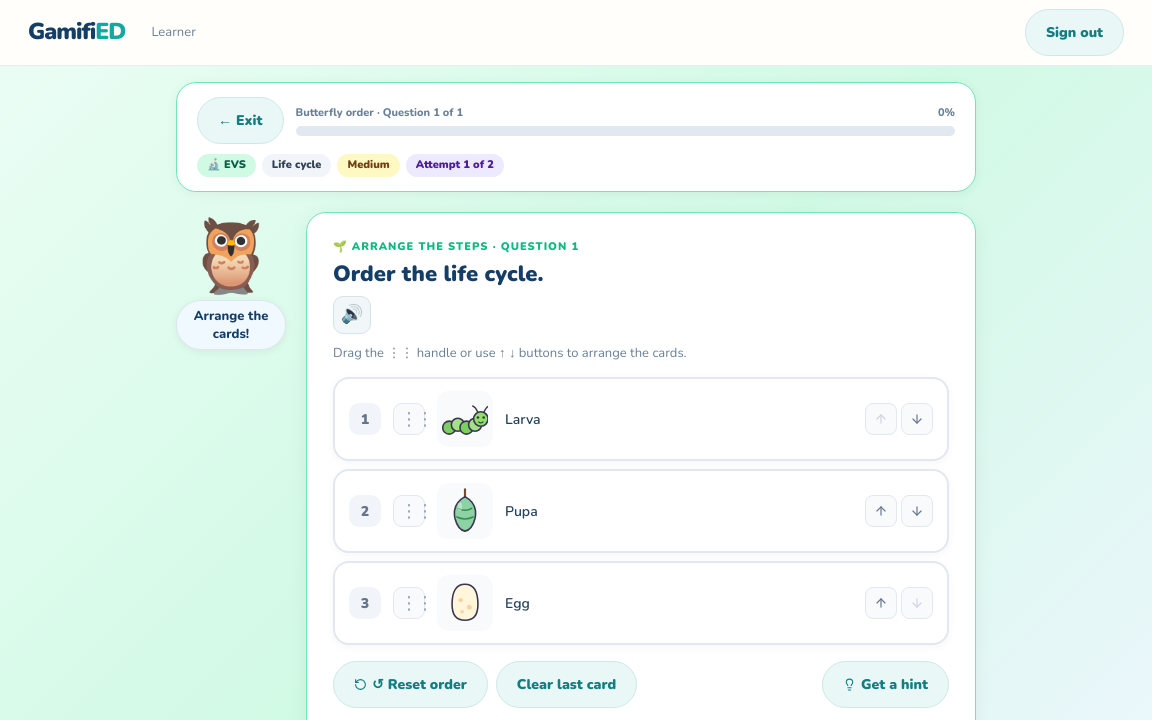
Scenario: a full student play: arrange, submit, feedback and results all come from the server
Expected: the heading "Order the life cycle." is shown, [333,259,543,289]
Step 1. Click the button named "Move Egg up" → x=881, y=603, box [865,587,897,619]
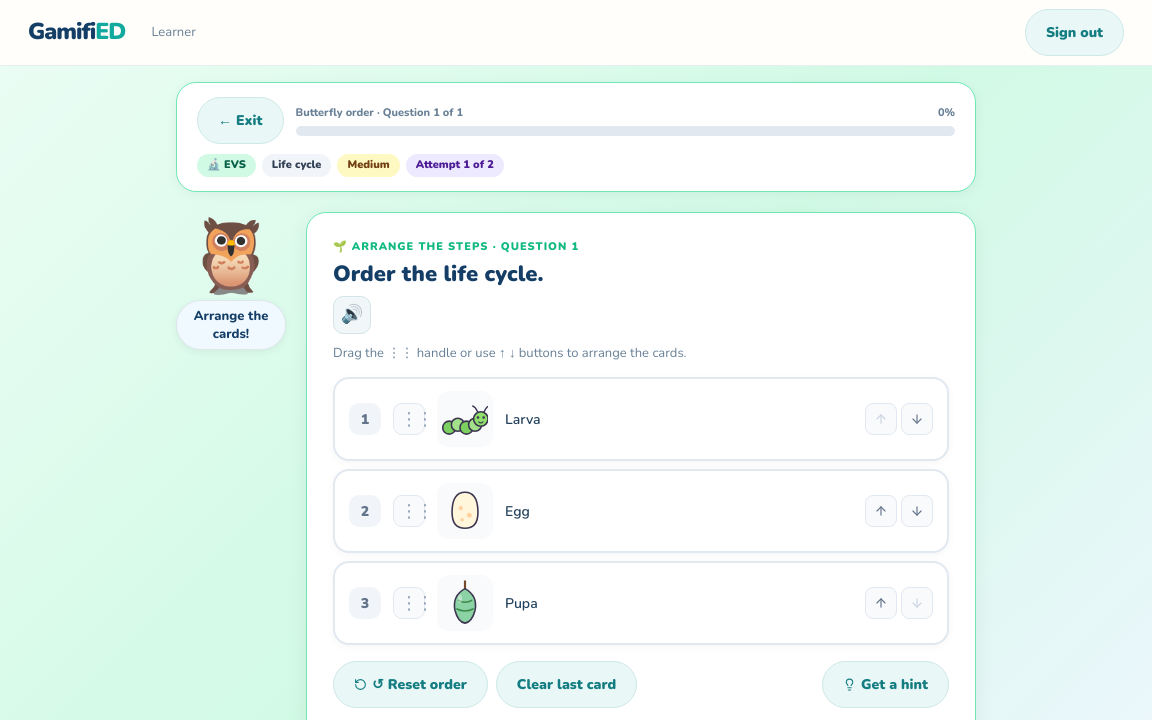
Step 2. Click the button named "Move Egg up" → x=881, y=511, box [865,495,897,527]
(page scrolled)
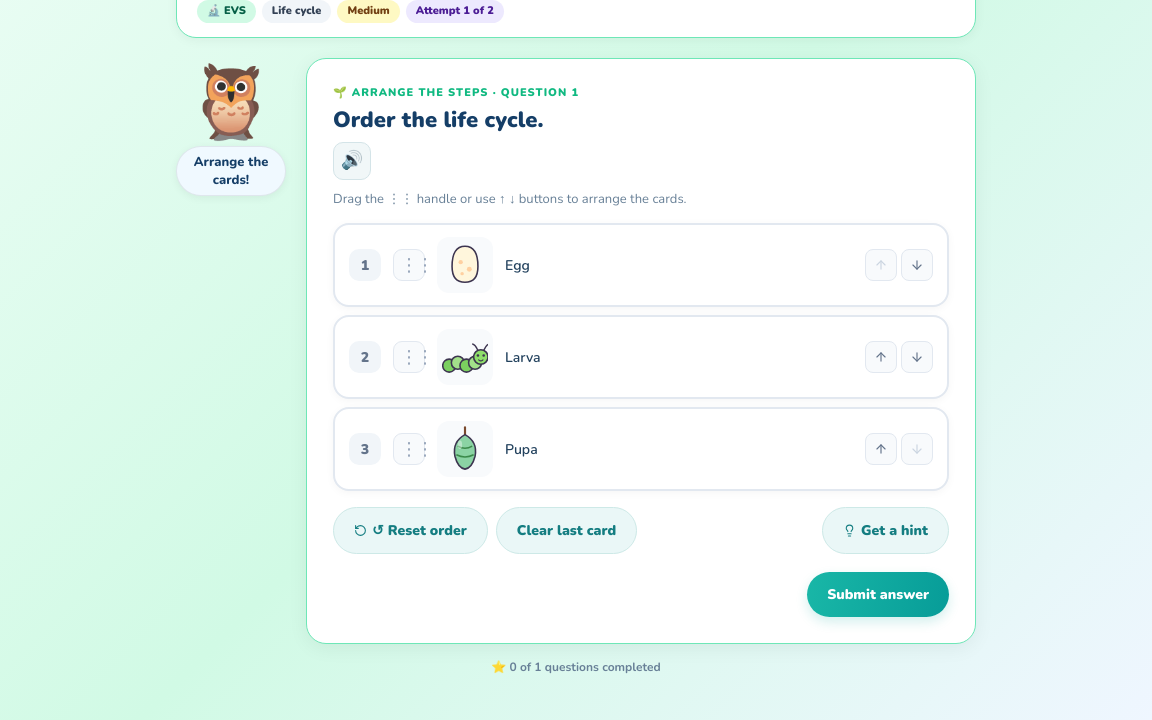
Step 3. Click the button "Submit answer" → x=878, y=595, box [807,572,949,617]
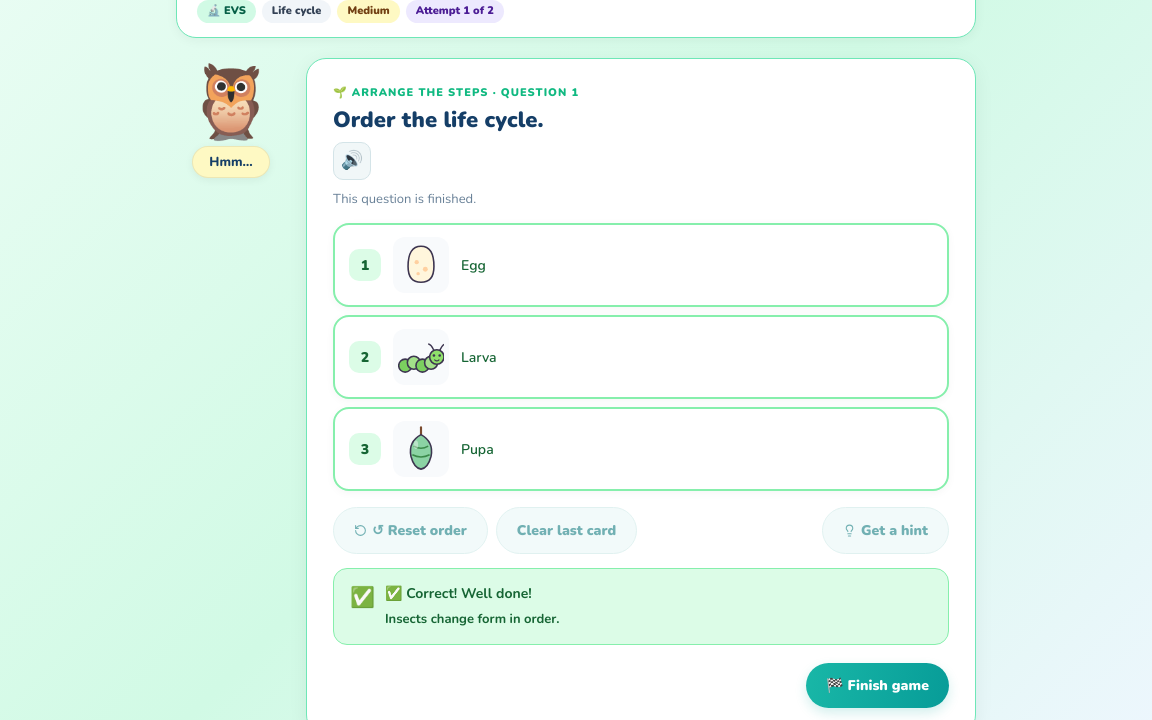
Expected: the text "Insects change form in order." is shown, [385,610,559,630]
Step 4. Click the button "🏁 Finish game" → x=877, y=685, box [806,663,949,708]
(page scrolled)
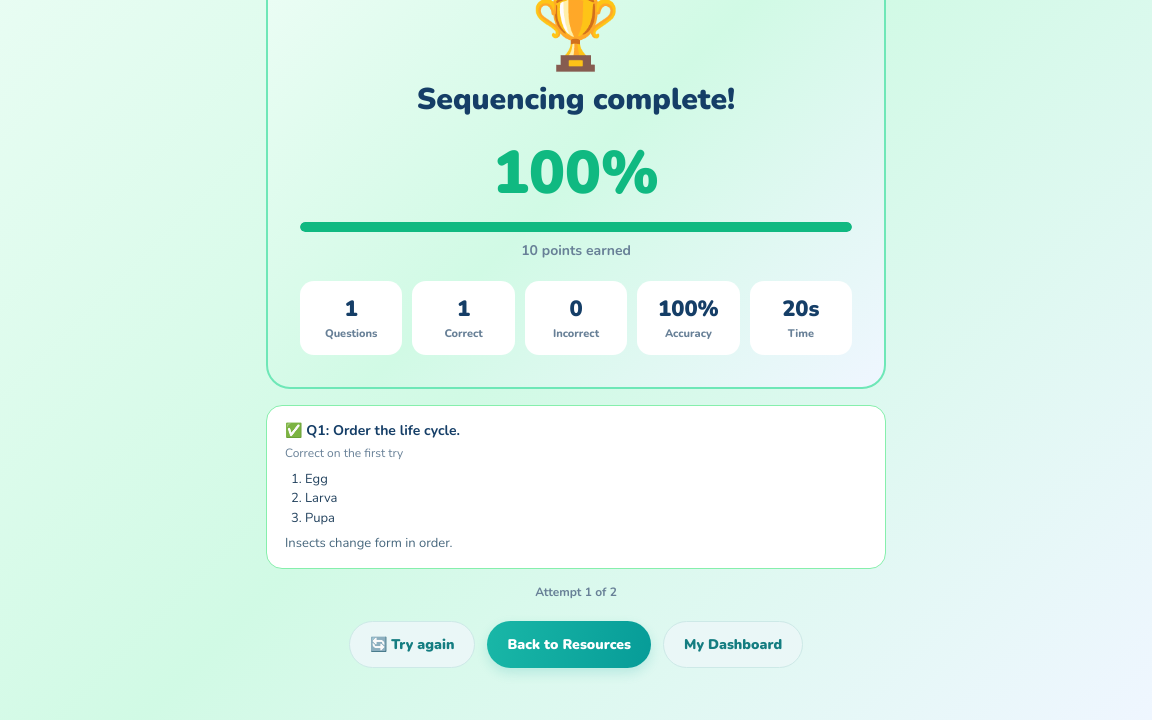
Expected: the heading "Sequencing complete!" is shown, [417,79,735,120]
Expected: the 1st text "100%" is shown, [493,132,659,214]
